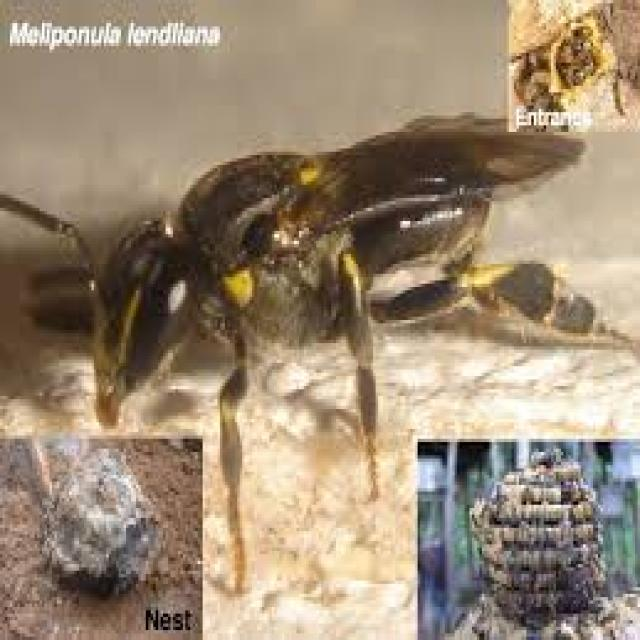Meliponula: (64, 36, 594, 550)
